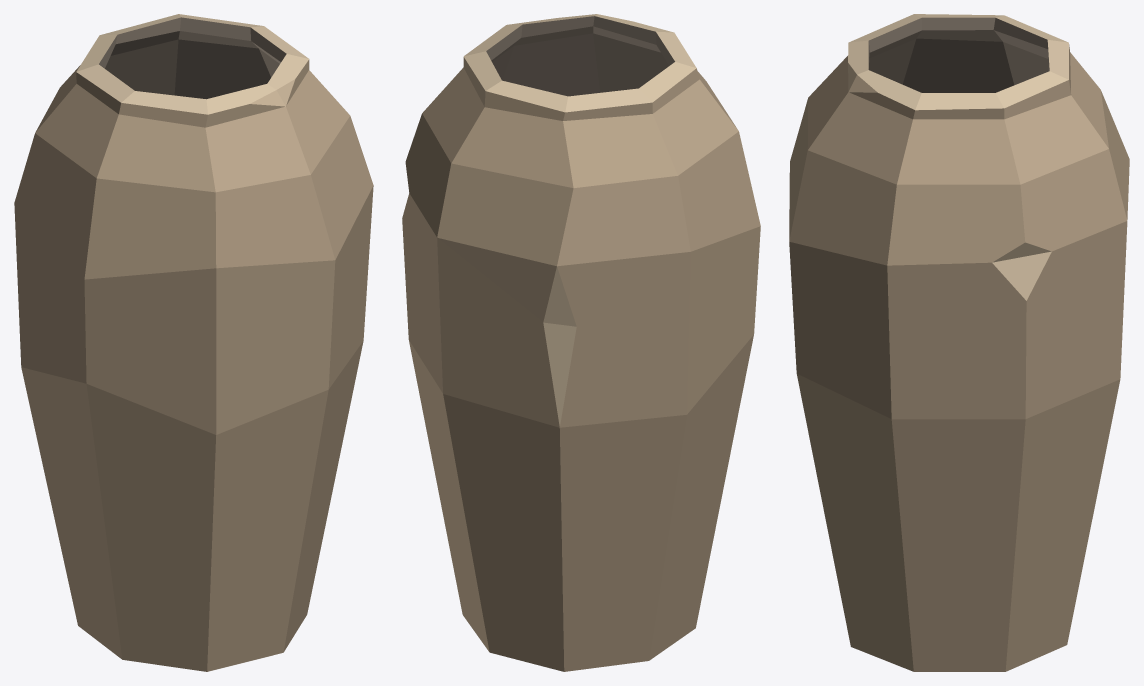
The model's file is SM_Prop_Pot_07.fbx.
3 renders of one model, left to right at view 1: azimuth 30°, elevation 25°; view 2: azimuth 150°, elevation 25°; view 3: azimuth 270°, elevation 25°, orthographic.
Visible parts, largest first — view 1: SM_Prop_Pot_07; view 2: SM_Prop_Pot_07; view 3: SM_Prop_Pot_07.
Part boxes in pixels (x1,y1,x2,y2): SM_Prop_Pot_07: (14,14,373,671); SM_Prop_Pot_07: (402,14,760,671); SM_Prop_Pot_07: (789,14,1129,671).
Bounding box in the file's own units: 0.3542 × 0.6595 × 0.3549.
1 material, 1 textured.
